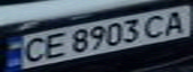0: (103, 20, 127, 47)
3: (121, 16, 148, 44)
8: (66, 26, 90, 54)
9: (87, 24, 109, 51)
A: (157, 8, 193, 35)
C: (15, 34, 51, 65), (139, 12, 172, 39)
E: (36, 30, 69, 61)
